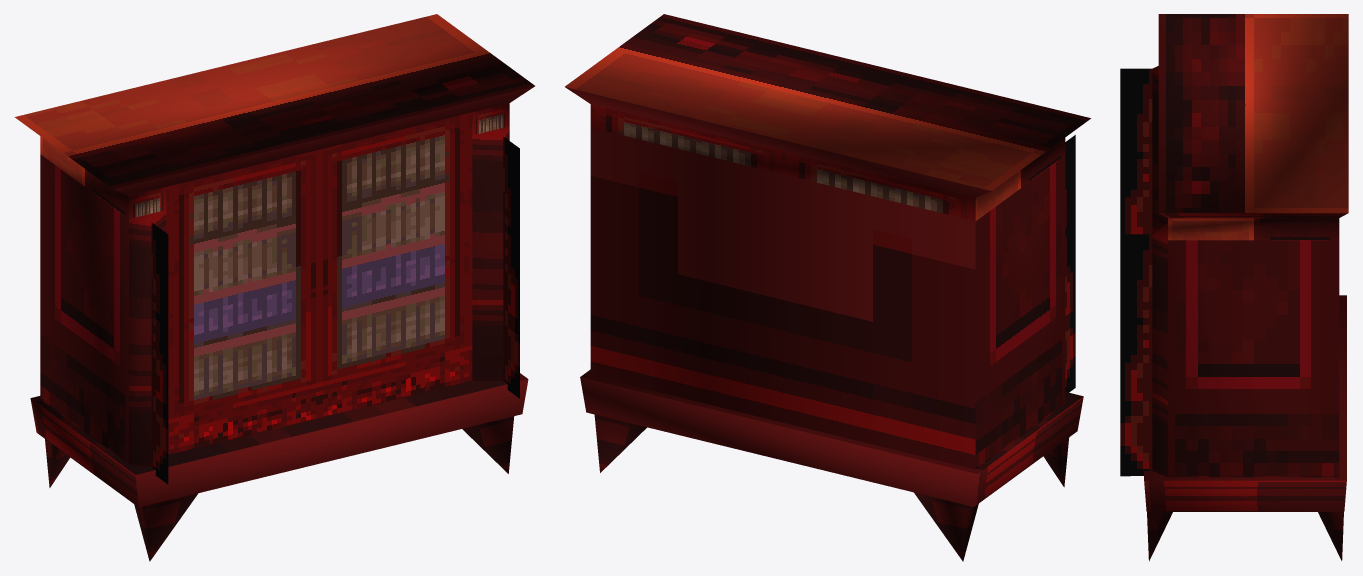
3 renders of one model, left to right at view 1: azimuth 30°, elevation 25°; view 2: azimuth 150°, elevation 25°; view 3: azimuth 270°, elevation 25°, orthographic. The views are drawn at different scales.
Visible parts, largest first — view 1: 3048IMRL02_09; view 2: 3048IMRL02_09; view 3: 3048IMRL02_09.
Part boxes in pixels (x1=…): 3048IMRL02_09: x1=14, y1=14, x2=534, y2=561; 3048IMRL02_09: x1=565, y1=14, x2=1090, y2=561; 3048IMRL02_09: x1=1120, y1=14, x2=1348, y2=561.
Size of the model in its own units: 1.9 by 1.62 by 0.9204.
3 materials, 3 textured.
